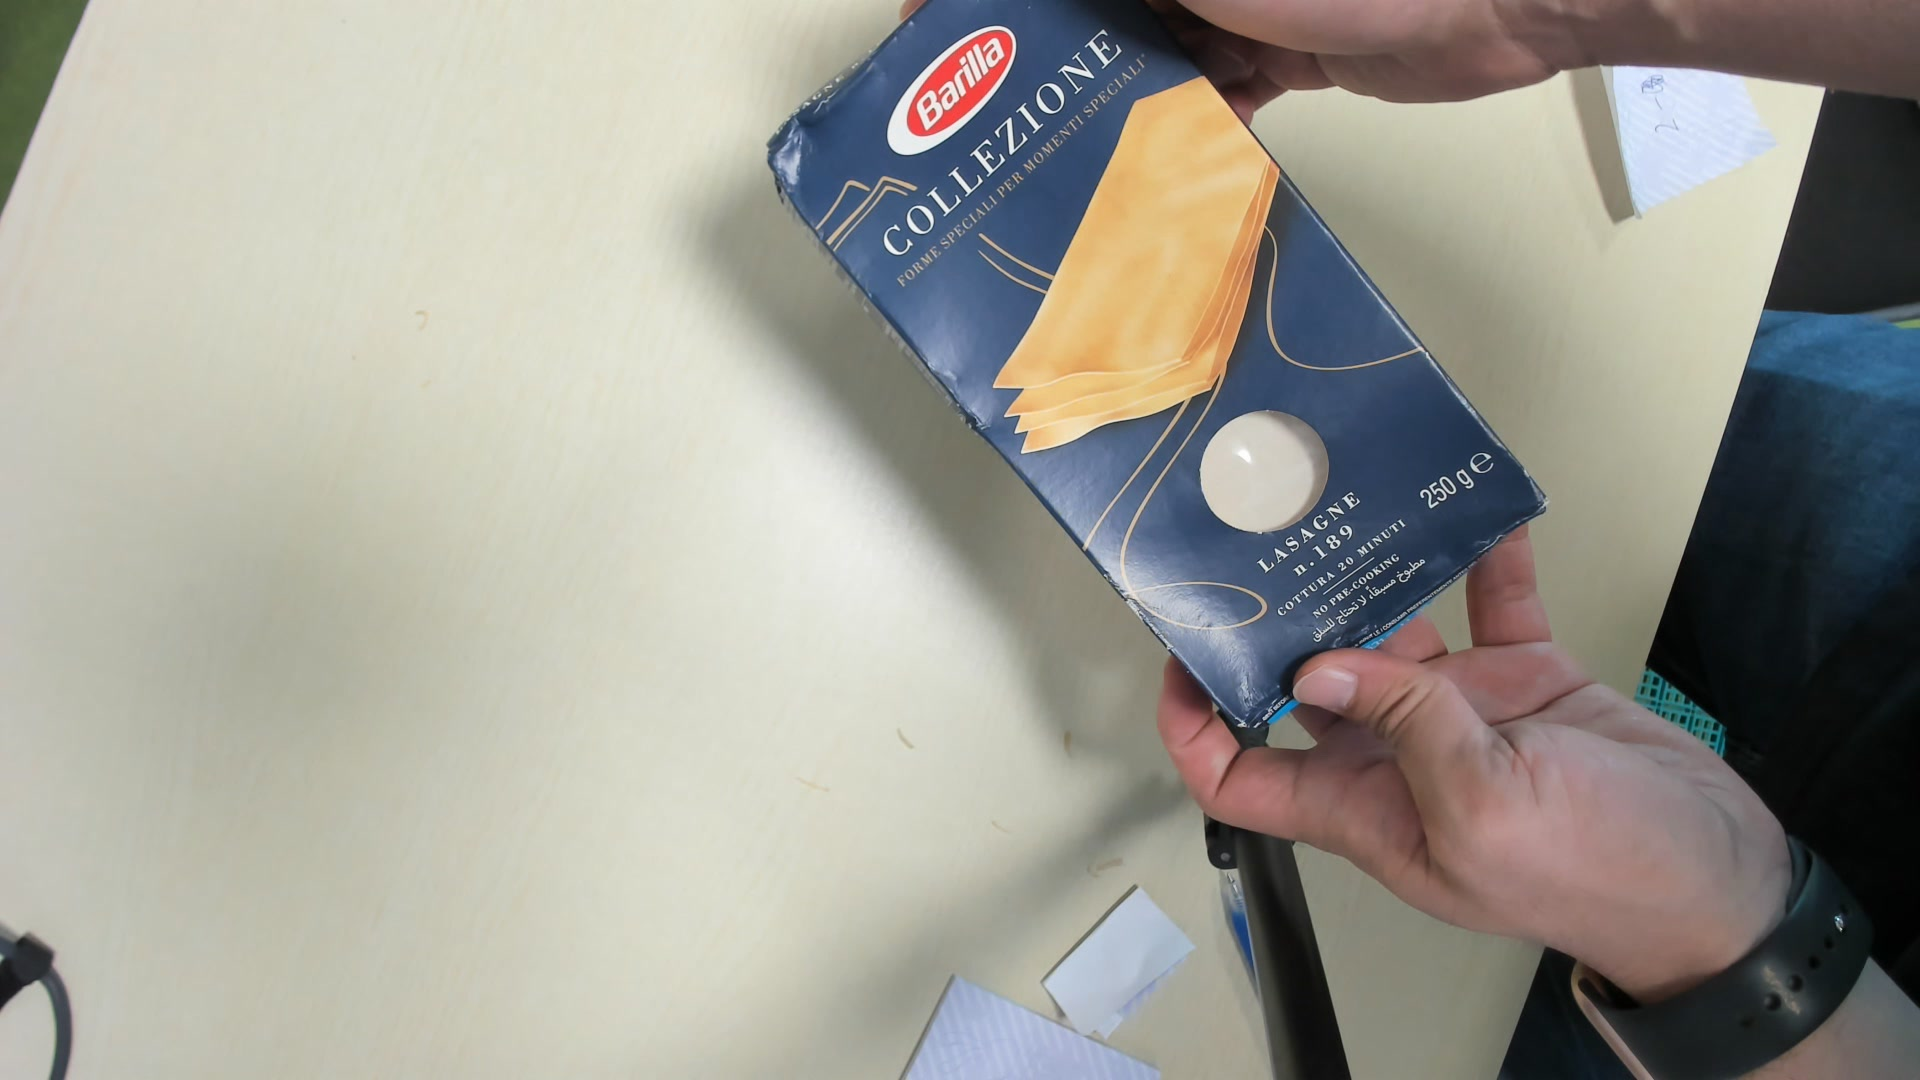InstantMeals_200_299g_NonHalal_NonHealthy: (764, 3, 1551, 742)
